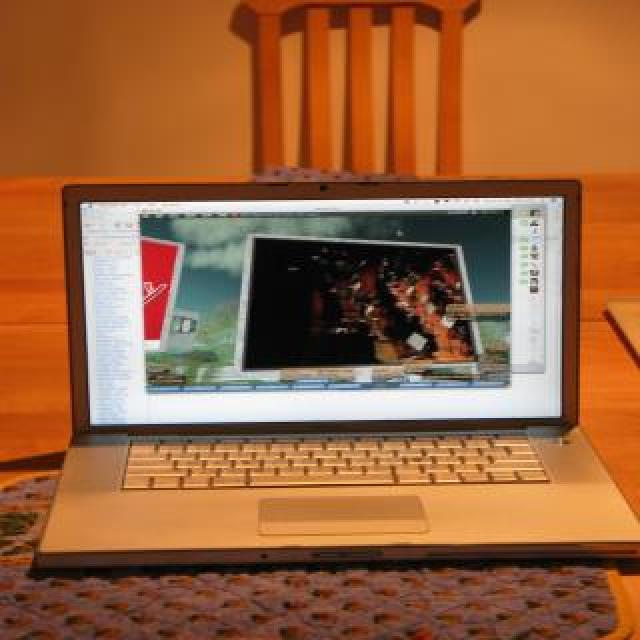laptop_computer: (36, 167, 640, 574)
